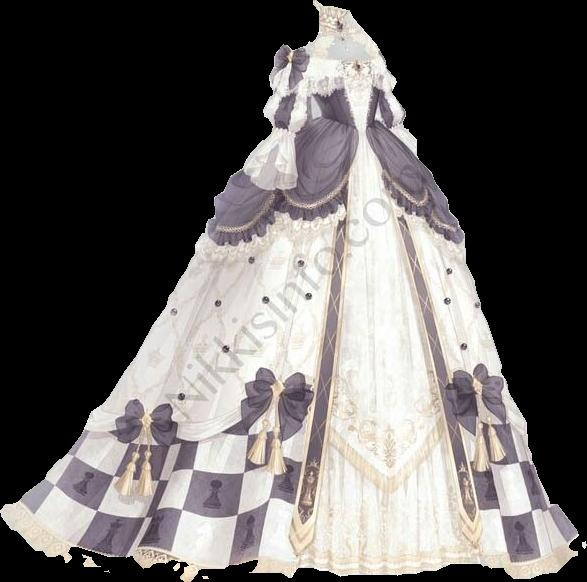Bodice: (303, 0, 387, 140)
Hemline: (367, 143, 483, 569), (0, 507, 582, 579), (296, 137, 369, 570), (208, 139, 365, 232), (82, 397, 314, 445), (365, 139, 462, 231), (446, 395, 530, 443), (304, 555, 470, 578)
Neckline: (324, 25, 375, 63), (337, 62, 361, 132), (307, 54, 384, 69), (362, 59, 374, 134), (312, 0, 348, 18)
Skirt: (0, 116, 577, 581)
Sleeve: (244, 44, 314, 192)
Sleeveline: (272, 123, 299, 140), (302, 45, 314, 72)
Waistline: (315, 112, 381, 147)
